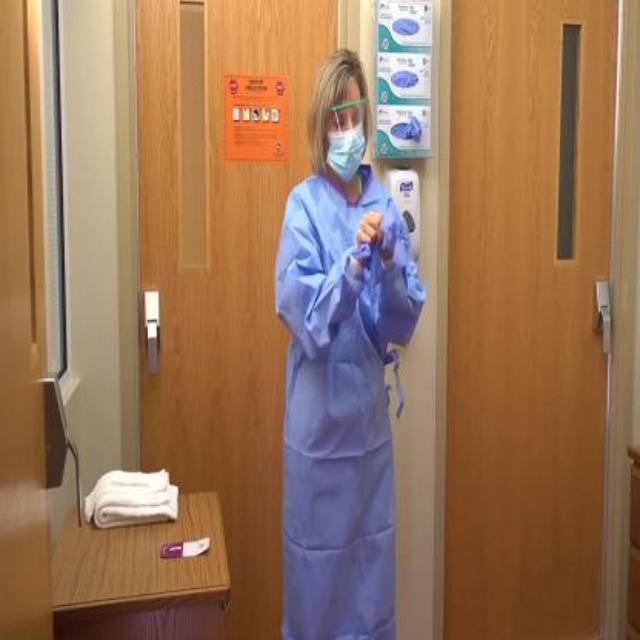bare_hand: (351, 213, 390, 276)
